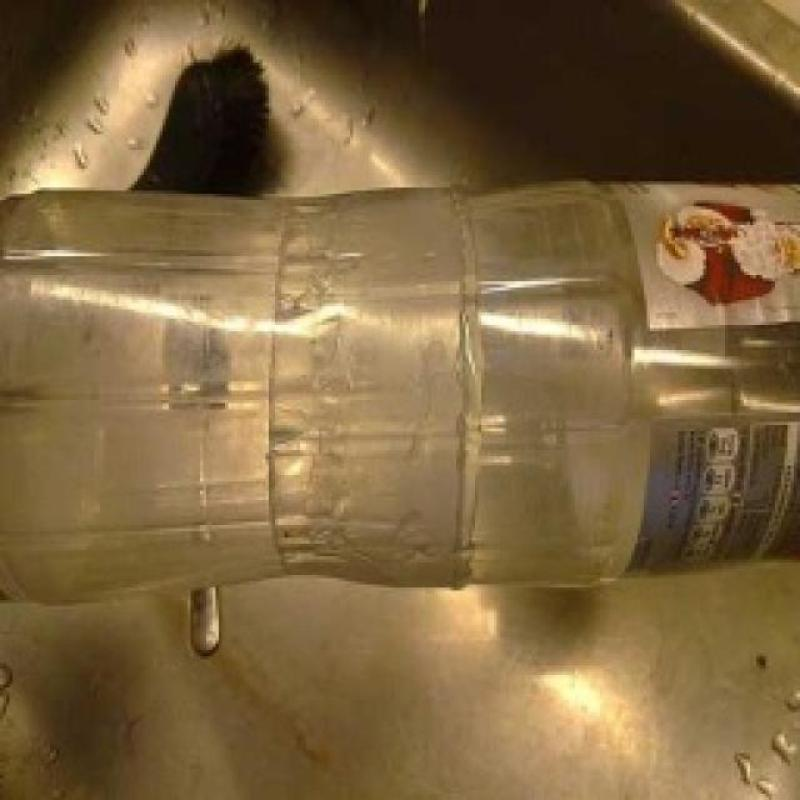botella: (0, 183, 800, 602)
